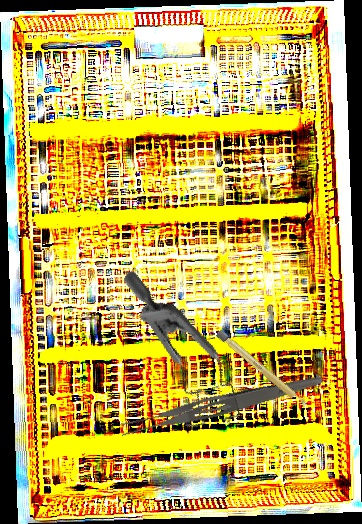Dressing Forceps: (117, 366, 325, 442)
Scalpel Handle: (215, 329, 309, 410)
Speculum: (77, 268, 277, 446)
